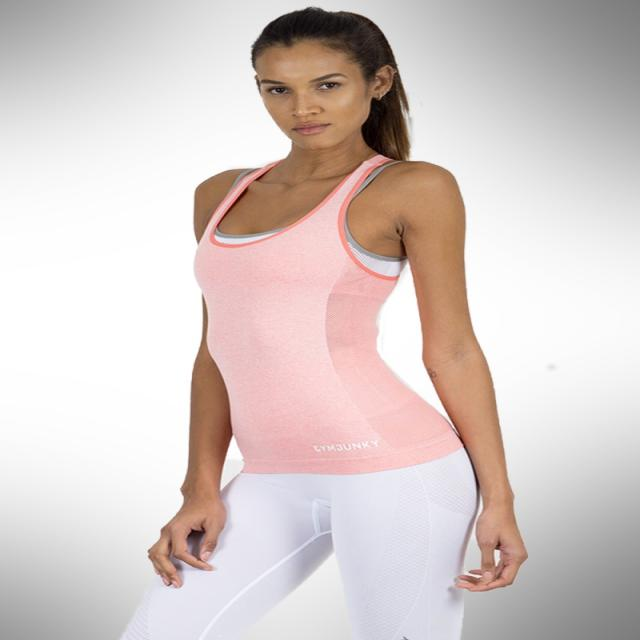human: (134, 3, 536, 640)
